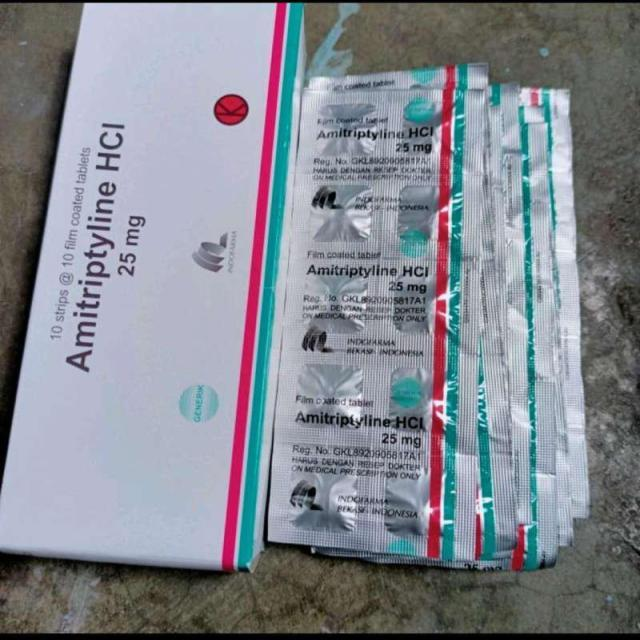drug-name: (61, 175, 125, 378)
